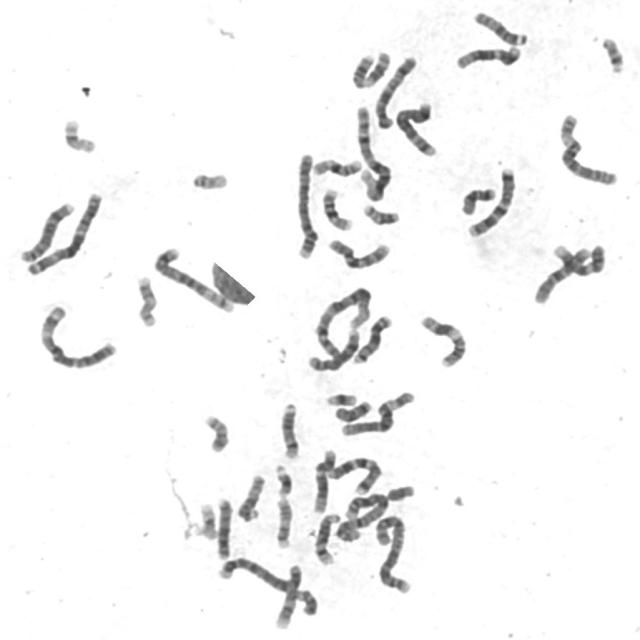A1: (306, 282, 374, 373), (350, 100, 394, 202)
A2: (370, 510, 413, 596), (332, 488, 391, 544)
A3: (20, 186, 104, 276), (34, 300, 120, 371)
B4: (213, 552, 320, 619), (291, 147, 320, 260)
B5: (148, 242, 236, 315), (391, 98, 438, 158)
C10: (529, 242, 594, 306), (324, 234, 393, 271)
C11: (416, 311, 469, 369), (348, 46, 393, 90)
C12: (452, 41, 524, 71), (308, 445, 338, 514)
C6: (555, 109, 620, 187), (337, 387, 417, 437)
C7: (464, 163, 518, 240), (322, 450, 385, 496)
C8: (15, 197, 77, 264), (303, 326, 362, 372)
C9: (270, 560, 304, 630), (548, 239, 608, 277)
D13: (349, 311, 394, 366), (212, 493, 234, 561)
D14: (310, 508, 342, 566), (276, 397, 303, 461)
D15: (470, 7, 530, 47), (232, 470, 266, 524)
E16: (318, 184, 354, 232), (308, 153, 365, 178)
E17: (132, 271, 160, 329), (270, 493, 295, 550)
E18: (457, 183, 498, 217), (346, 492, 378, 521)
F19: (58, 114, 98, 155), (193, 498, 219, 541)
F20: (200, 409, 232, 454), (359, 200, 400, 227)
G21: (270, 460, 295, 498), (322, 389, 359, 408)
G22: (597, 31, 628, 76), (187, 166, 231, 192)
X: (370, 51, 419, 131)
Y: (330, 397, 374, 423), (386, 482, 421, 501)
